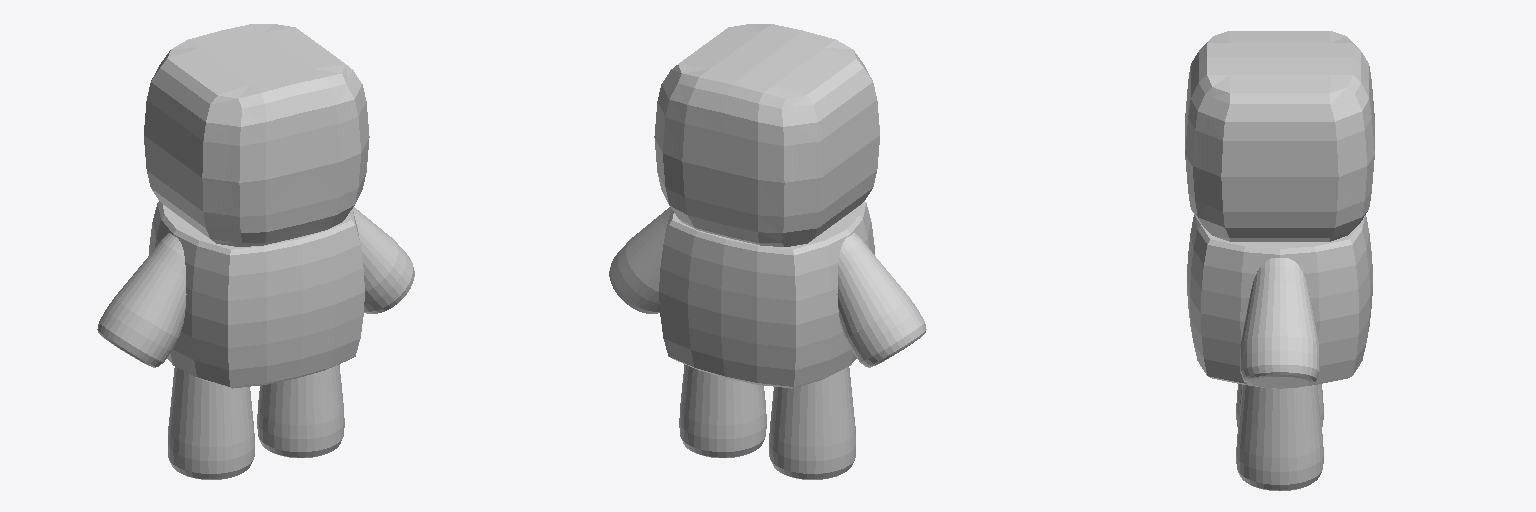
The model's file is player1.obj.
3 renders of one model, left to right at view 1: azimuth 30°, elevation 25°; view 2: azimuth 150°, elevation 25°; view 3: azimuth 270°, elevation 25°, orthographic.
Visible parts, largest first — view 1: Startercharacter3, Startercharacter4, Startercharacter5, Startercharacter6, Startercharacter2, Startercharacter1; view 2: Startercharacter3, Startercharacter4, Startercharacter5, Startercharacter6, Startercharacter2, Startercharacter1; view 3: Startercharacter3, Startercharacter4, Startercharacter1, Startercharacter2.
Boxes of the visible parts, x1=… form: Startercharacter3: x1=144, y1=24, x2=369, y2=246; Startercharacter4: x1=149, y1=201, x2=364, y2=388; Startercharacter5: x1=168, y1=367, x2=254, y2=479; Startercharacter6: x1=97, y1=233, x2=186, y2=367; Startercharacter2: x1=257, y1=364, x2=344, y2=457; Startercharacter1: x1=353, y1=207, x2=414, y2=313; Startercharacter3: x1=654, y1=24, x2=879, y2=246; Startercharacter4: x1=659, y1=201, x2=874, y2=388; Startercharacter5: x1=769, y1=367, x2=855, y2=479; Startercharacter6: x1=837, y1=233, x2=926, y2=367; Startercharacter2: x1=679, y1=364, x2=766, y2=457; Startercharacter1: x1=609, y1=207, x2=670, y2=313; Startercharacter3: x1=1185, y1=31, x2=1374, y2=241; Startercharacter4: x1=1187, y1=215, x2=1372, y2=385; Startercharacter1: x1=1240, y1=258, x2=1319, y2=388; Startercharacter2: x1=1236, y1=385, x2=1323, y2=490.
Size of the model in its own units: 1.56 by 1.93 by 0.8378.